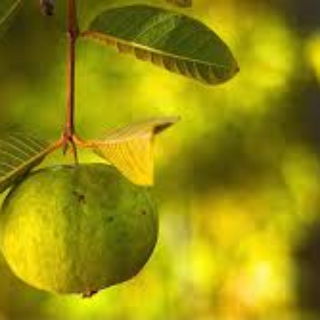oi: (5, 160, 171, 312)
